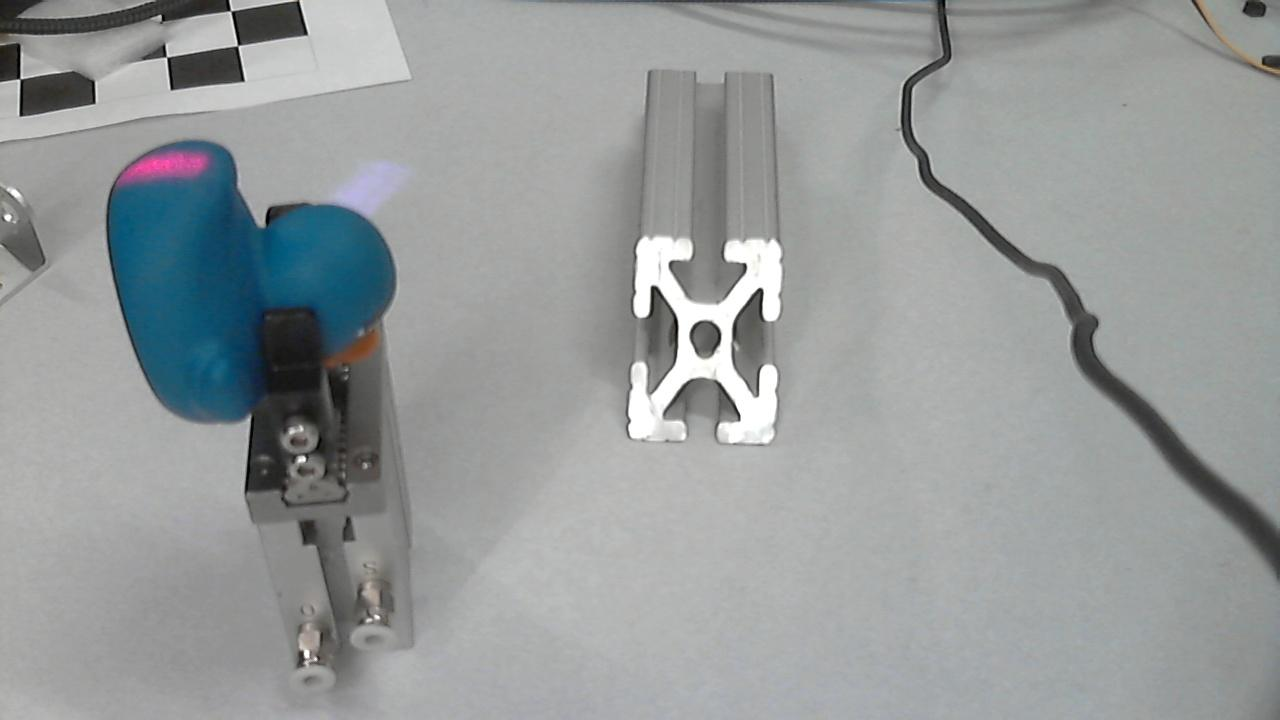Object rubber duck - Material rubber -Color blue - Pdfname BWuUnwTLudUE: (115, 153, 222, 202)
